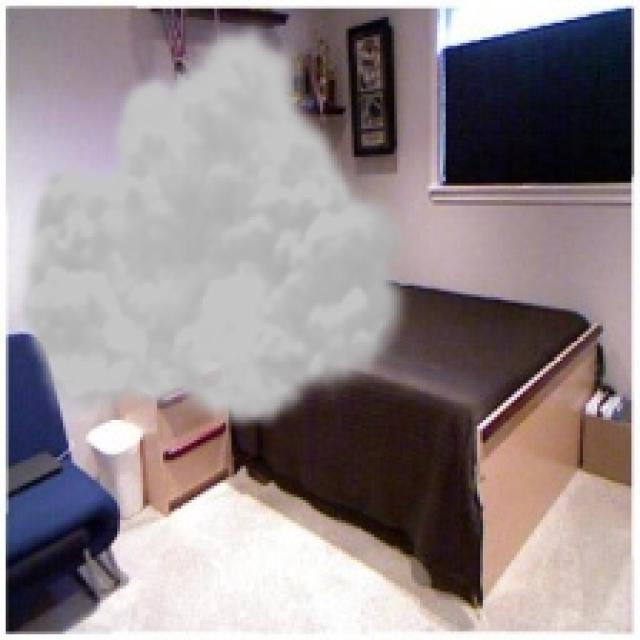Smoke: (11, 14, 420, 432)
